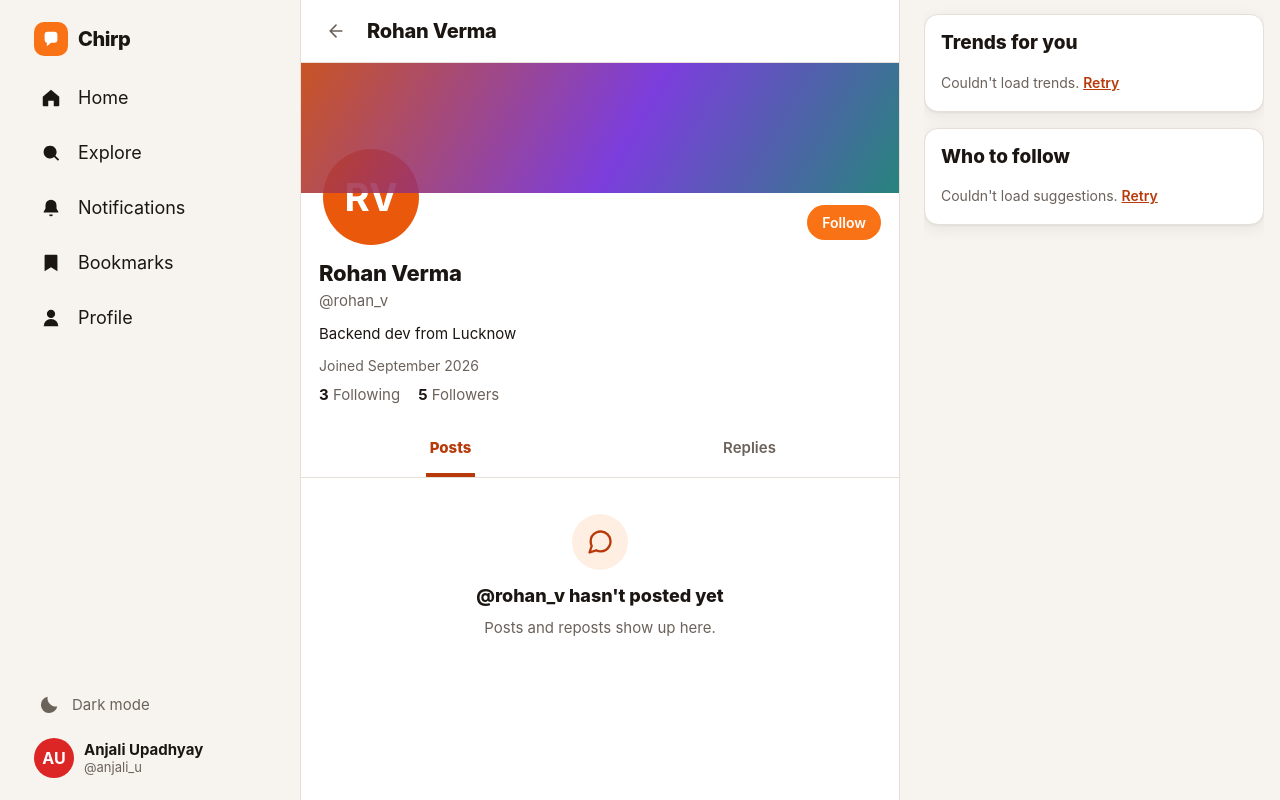
Scenario: follow / unfollow › follows optimistically and syncs the follower count from the server
Click the button with aria-label "Follow @rohan_v" at (844, 222), box [807,205,881,240]
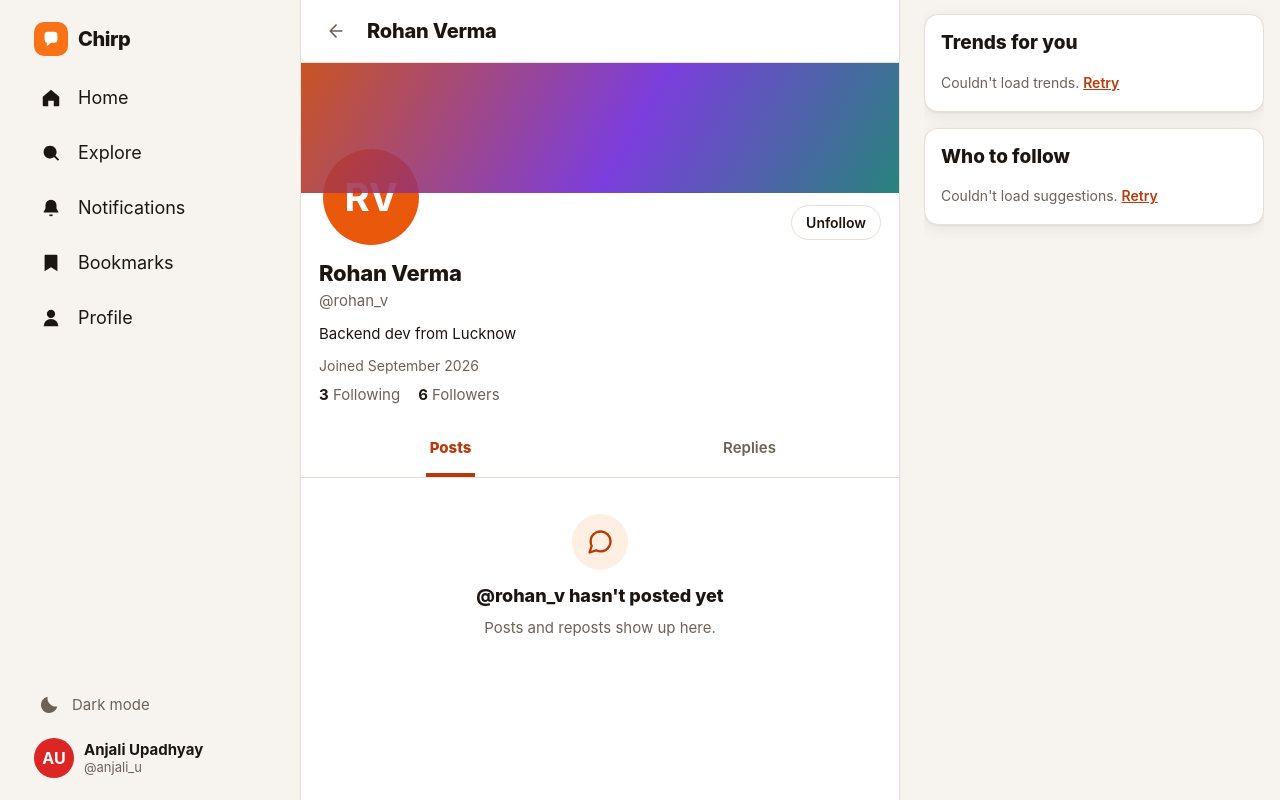
Now the link "6 Followers" is shown, box [418,384,500,406]
